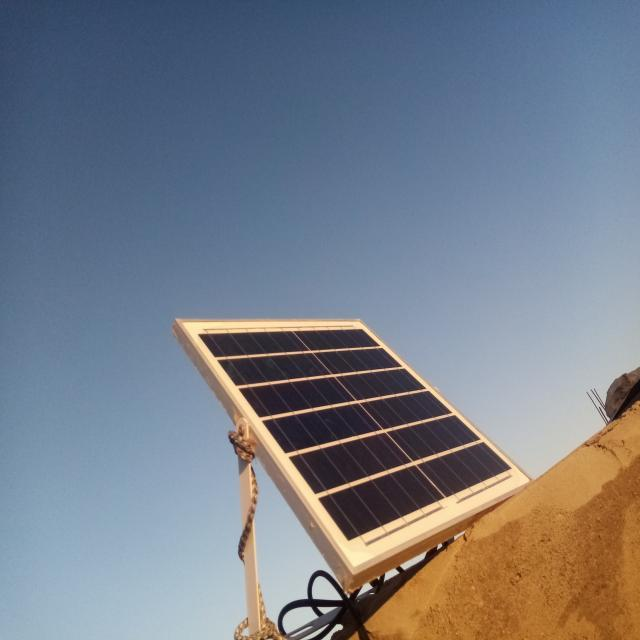no faulty: (178, 320, 532, 575)
